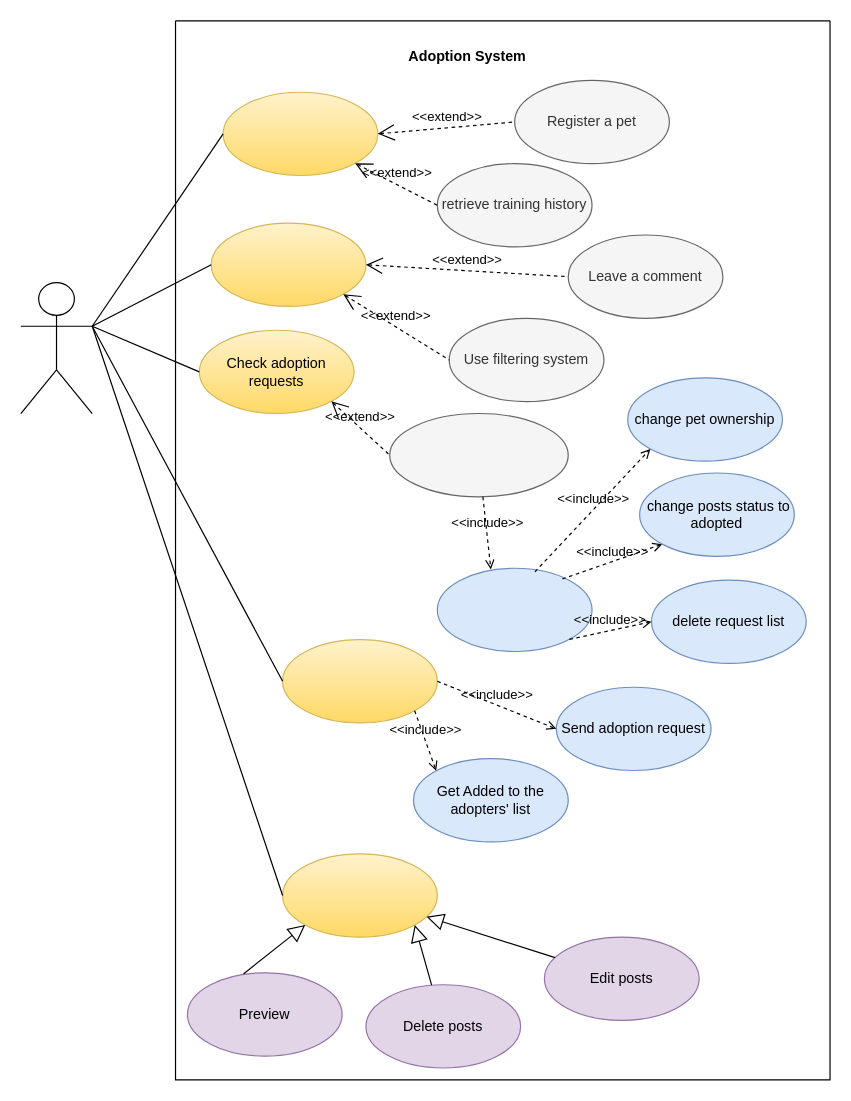
The diagram is 851 pixels wide and 1101 high, and some of its shapes have lost their labels. The shapes that lost their labels are listed below. From the top down, each one's box as (x1, y1, x2, y2) in pixels, then its label:
(222, 91, 378, 176): Post
(210, 222, 366, 306): Surf the posts
(20, 281, 92, 414): Client
(389, 412, 568, 497): Accept adoption request
(436, 567, 592, 652): Send contact info to requester
(281, 638, 437, 723): Adopt a pet
(281, 853, 437, 937): Manage own posts
